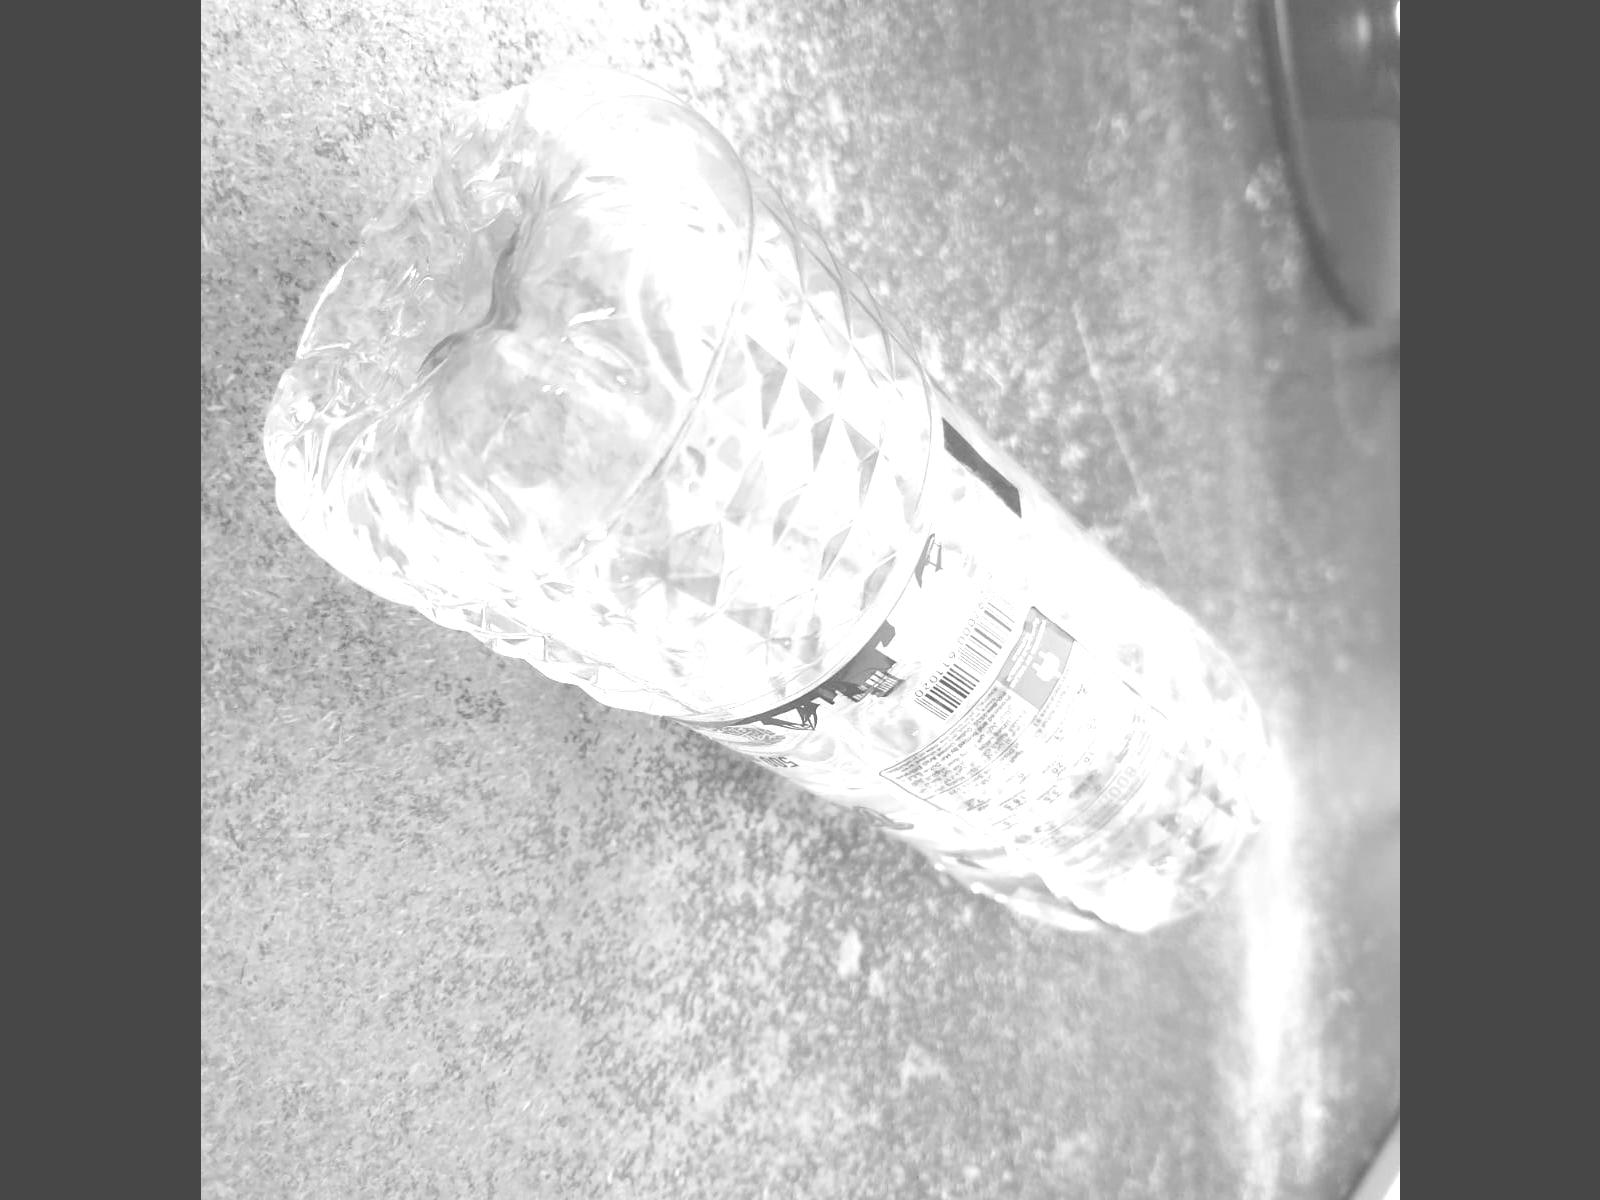bottle: (252, 63, 1272, 949)
